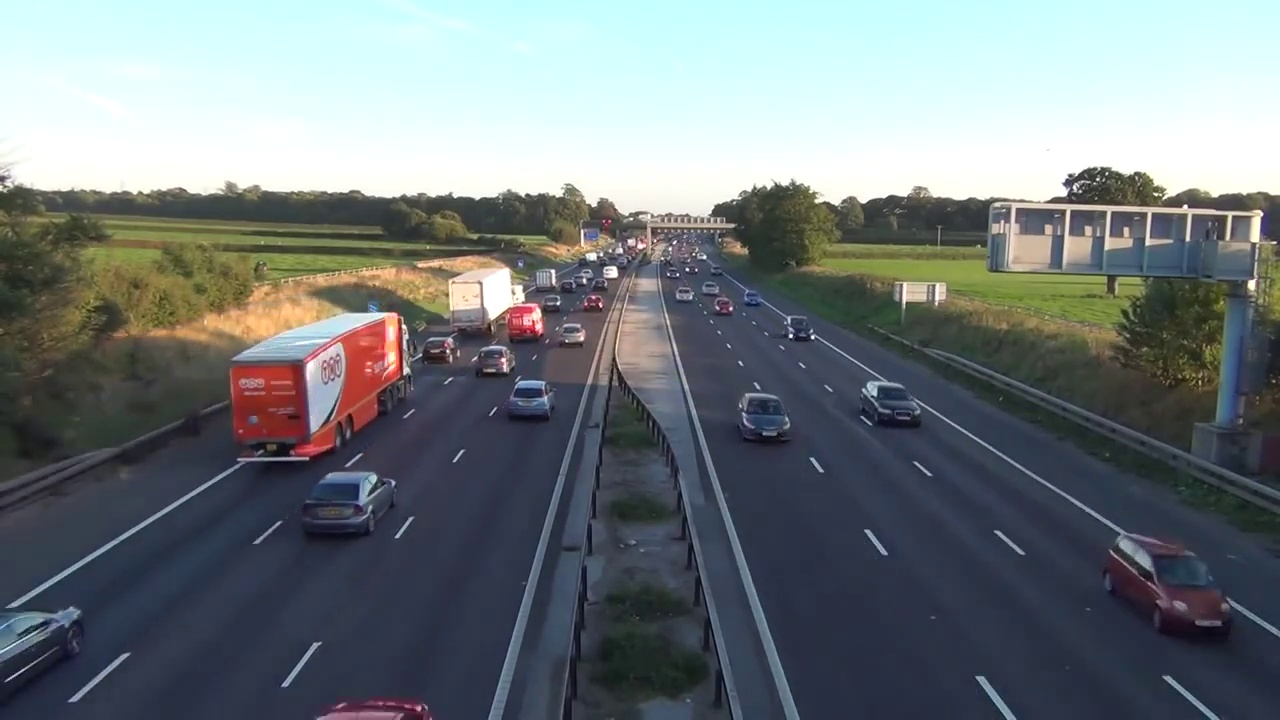bus: (1100, 528, 1231, 637), (2, 606, 86, 720), (303, 469, 398, 540), (856, 381, 922, 429), (737, 391, 791, 445), (316, 696, 434, 720), (508, 381, 557, 418), (475, 346, 514, 376), (422, 337, 459, 366), (784, 315, 814, 343), (561, 322, 585, 346), (712, 297, 735, 318), (540, 294, 564, 309), (582, 294, 603, 311), (676, 288, 693, 301), (702, 282, 719, 294)
car: (227, 315, 416, 465), (449, 269, 516, 337)
lorry: (508, 283, 527, 303)
minibus: (509, 304, 541, 341)
